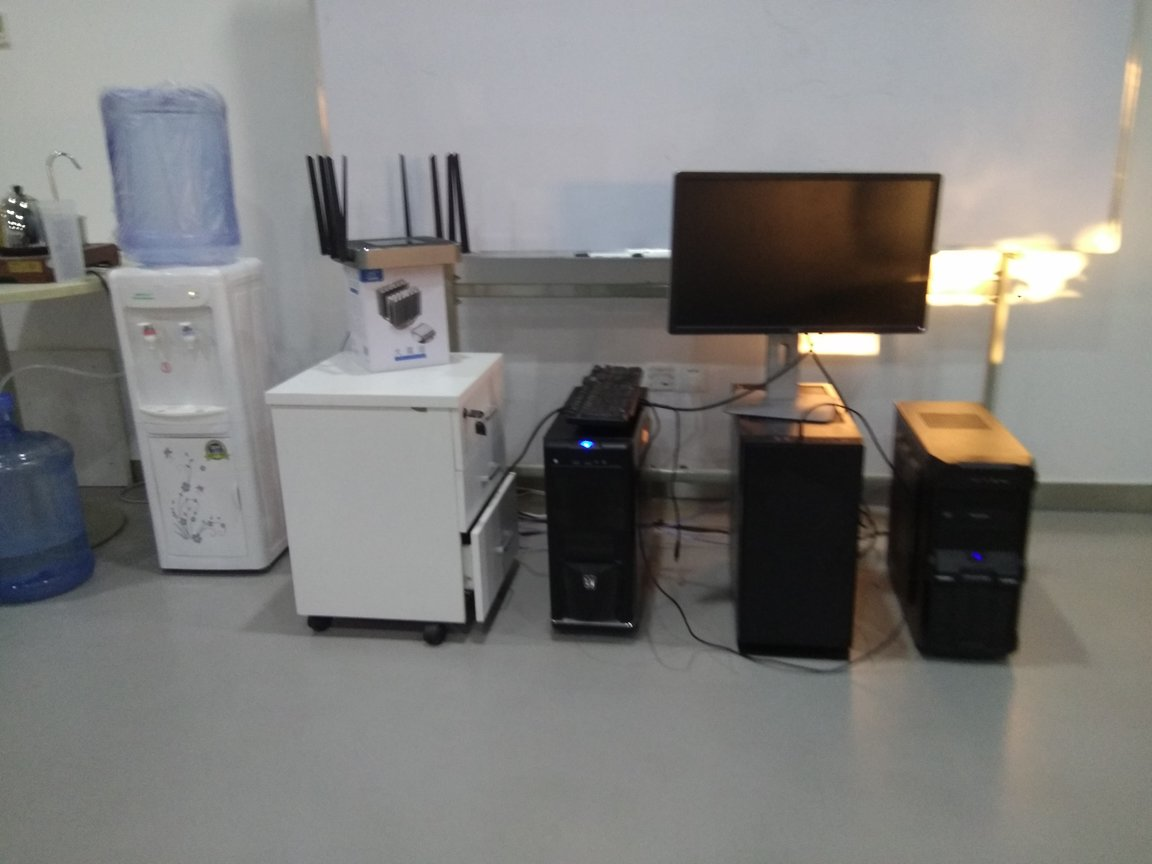computer: (729, 377, 864, 667), (883, 401, 1031, 661), (545, 384, 655, 646)
drawer chest: (274, 349, 510, 648)
monitor: (668, 166, 937, 425)
scuttlebutt: (100, 83, 242, 269), (1, 405, 97, 611)
water dispenser: (111, 261, 298, 579)
